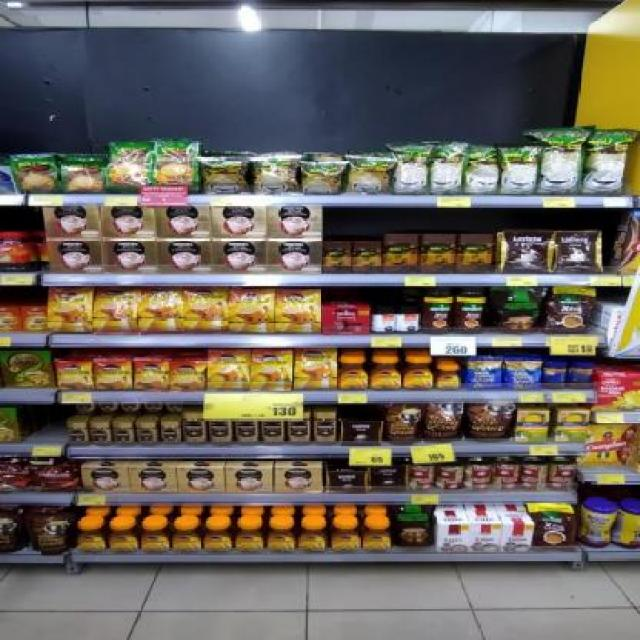Coffee: (48, 287, 94, 333), (183, 288, 229, 334), (229, 288, 274, 334), (275, 289, 320, 334), (140, 287, 183, 333), (94, 288, 138, 332), (295, 348, 337, 389), (208, 350, 250, 390), (252, 350, 292, 390), (95, 359, 133, 390), (132, 360, 170, 390), (56, 360, 93, 390), (170, 361, 206, 390), (404, 356, 434, 390), (371, 358, 402, 390), (339, 358, 368, 390), (76, 525, 106, 553), (108, 526, 140, 552), (234, 525, 264, 552), (330, 525, 360, 552), (140, 526, 170, 552), (296, 526, 326, 552), (361, 524, 391, 550), (314, 412, 337, 445), (267, 525, 295, 552), (172, 525, 200, 552), (203, 526, 232, 552), (210, 414, 233, 446), (236, 413, 259, 445), (263, 413, 286, 445), (182, 414, 206, 444), (288, 413, 310, 445), (435, 365, 460, 390), (90, 422, 112, 447), (160, 422, 182, 446), (112, 423, 134, 446), (136, 423, 158, 446), (68, 424, 89, 447)
